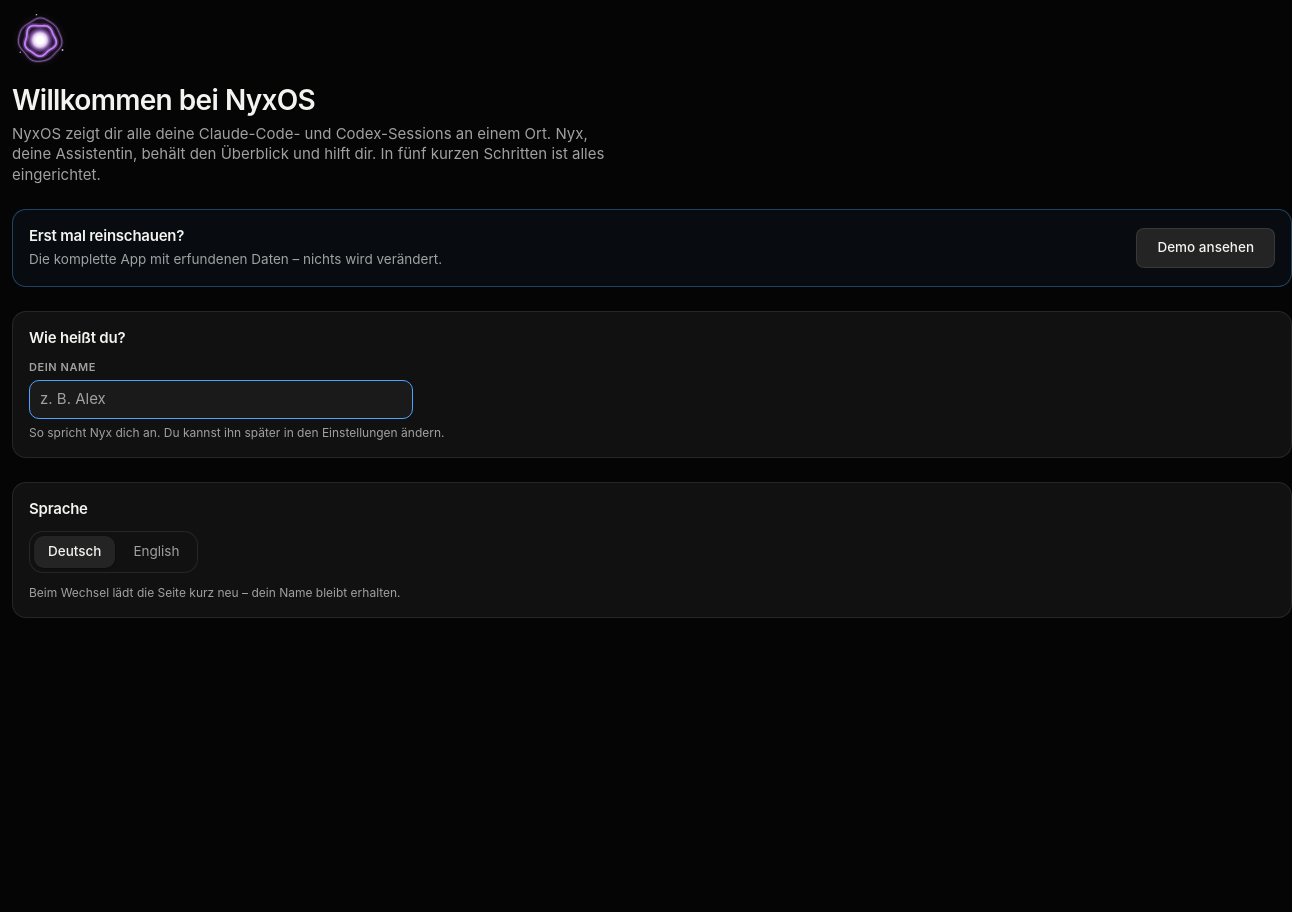
Test: Demo · Onboarding „Demo ansehen“ › zeigt einen Fehler vom Server freundlich direkt darunter
Click the button "Demo ansehen" at (1206, 248), box [1136,228,1275,268]
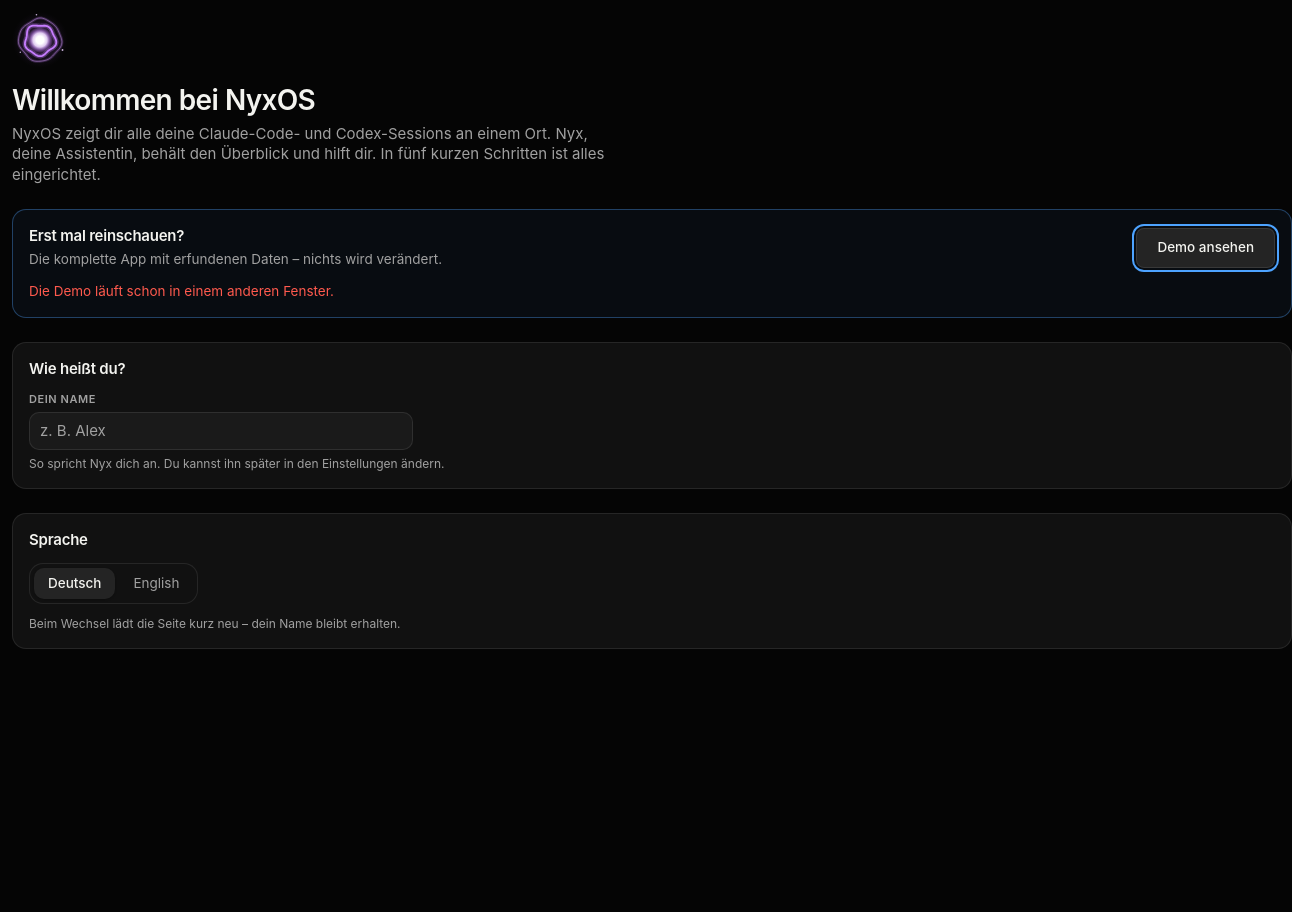
Check: the message reads "Die Demo läuft schon in einem anderen Fenster.", box [29,283,334,299]
